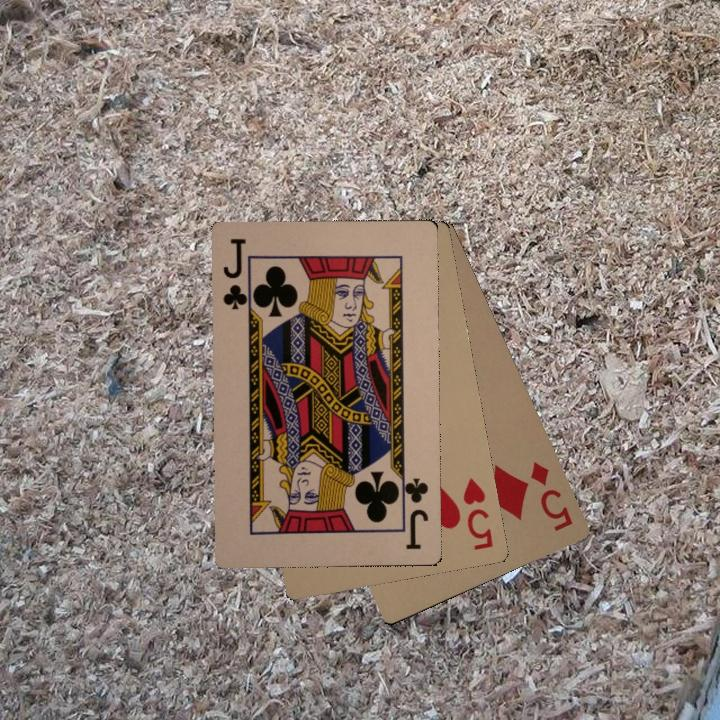5d: (525, 457, 576, 534)
5h: (459, 473, 496, 553)
Jc: (219, 234, 255, 314), (396, 472, 431, 552)
